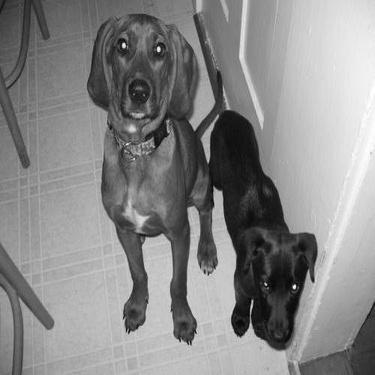dog: (80, 5, 231, 349), (194, 55, 323, 351)
